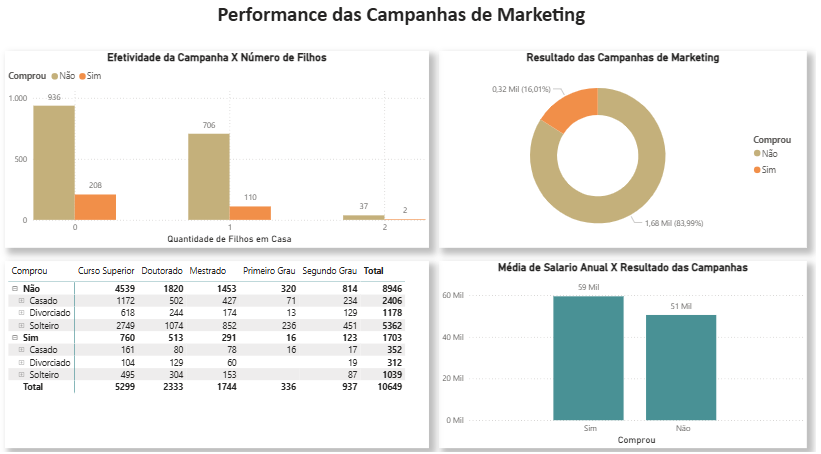

Layout of this report page (visuals, bound fields, positions):
{"tool":"powerbi","page":{"name":"Visão Campanhas","canvas":[1280,720],"ordinal":2},"visuals":[{"type":"donutChart","title":"Resultado das Campanhas de Marketing","fields":{"Category":["DadosMarketing.Comprou"],"Y":["CountNonNull(DadosMarketing.ID)"]},"box":[691.2,92.9,569.9,305.4],"z":0},{"type":"clusteredColumnChart","title":"Média de Salario Anual X Resultado das Campanhas","fields":{"Category":["DadosMarketing.Comprou"],"Y":["Avg(DadosMarketing.Salario Anual)"]},"box":[691.2,418.8,569.9,289.7],"z":1},{"type":"pivotTable","fields":{"Rows":["DadosMarketing.Comprou","DadosMarketing.Estado Civil","DadosMarketing.Pais"],"Values":["Sum(DadosMarketing.Numero Visitas WebSite Mes)"],"Columns":["DadosMarketing.Escolaridade"]},"box":[18.9,418.8,656.5,289.7],"z":2},{"type":"clusteredColumnChart","title":"Efetividade da Campanha X Número de Filhos","fields":{"Category":["DadosMarketing.Filhos em Casa"],"Series":["DadosMarketing.Comprou"],"Y":["CountNonNull(DadosMarketing.Filhos em Casa)"]},"box":[19,92.6,657,305],"z":3},{"type":"textbox","box":[81.9,11,1100.5,50.4],"z":4}]}

Visuals, with their boxes in screenshot pixels (x1, y1, x2, y2), scaled from the page's 1280x720 canvas onto the 821x454 screenshot:
"Resultado das Campanhas de Marketing" donutChart: BBox(443, 59, 809, 251)
"Média de Salario Anual X Resultado das Campanhas" clusteredColumnChart: BBox(443, 264, 809, 447)
pivotTable - DadosMarketing.Comprou x DadosMarketing.Estado Civil: BBox(12, 264, 433, 447)
"Efetividade da Campanha X Número de Filhos" clusteredColumnChart: BBox(12, 58, 434, 251)
textbox: BBox(53, 7, 758, 39)
